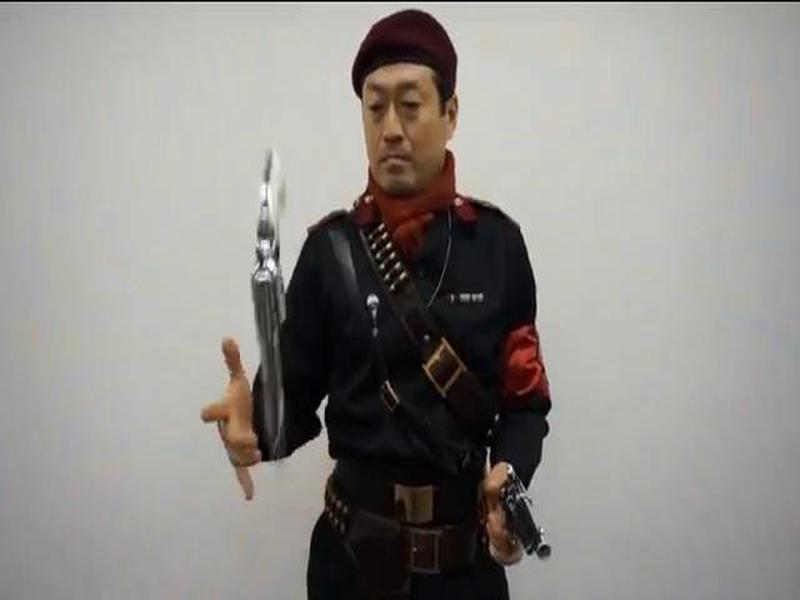Revolver: (477, 455, 562, 581)
